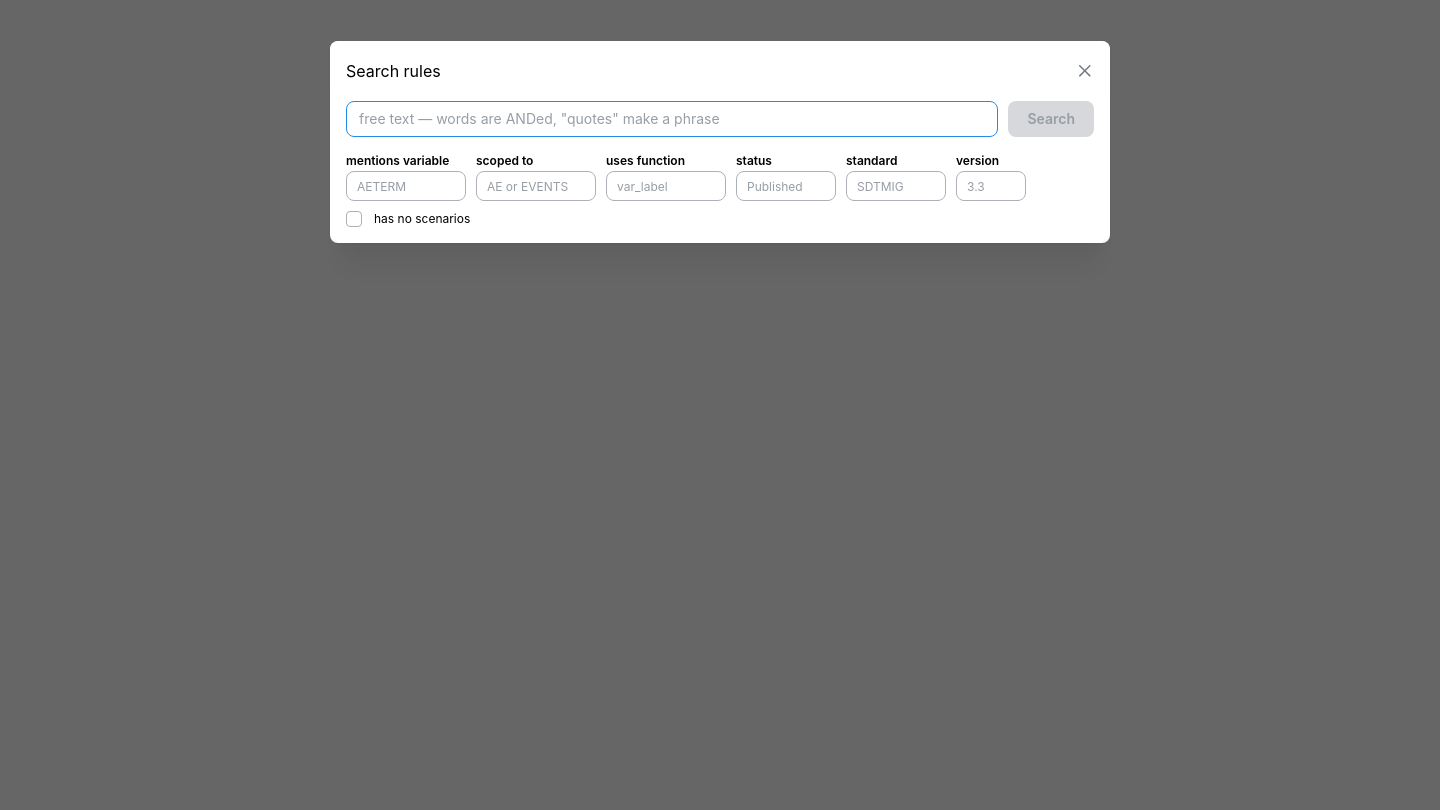
Test: SearchDialog › marks a truncated result
This screenshot has width=1440, height=810.
Step 1. Type "x" into the field named "Search text" → [672, 118], box [346, 100, 998, 136]
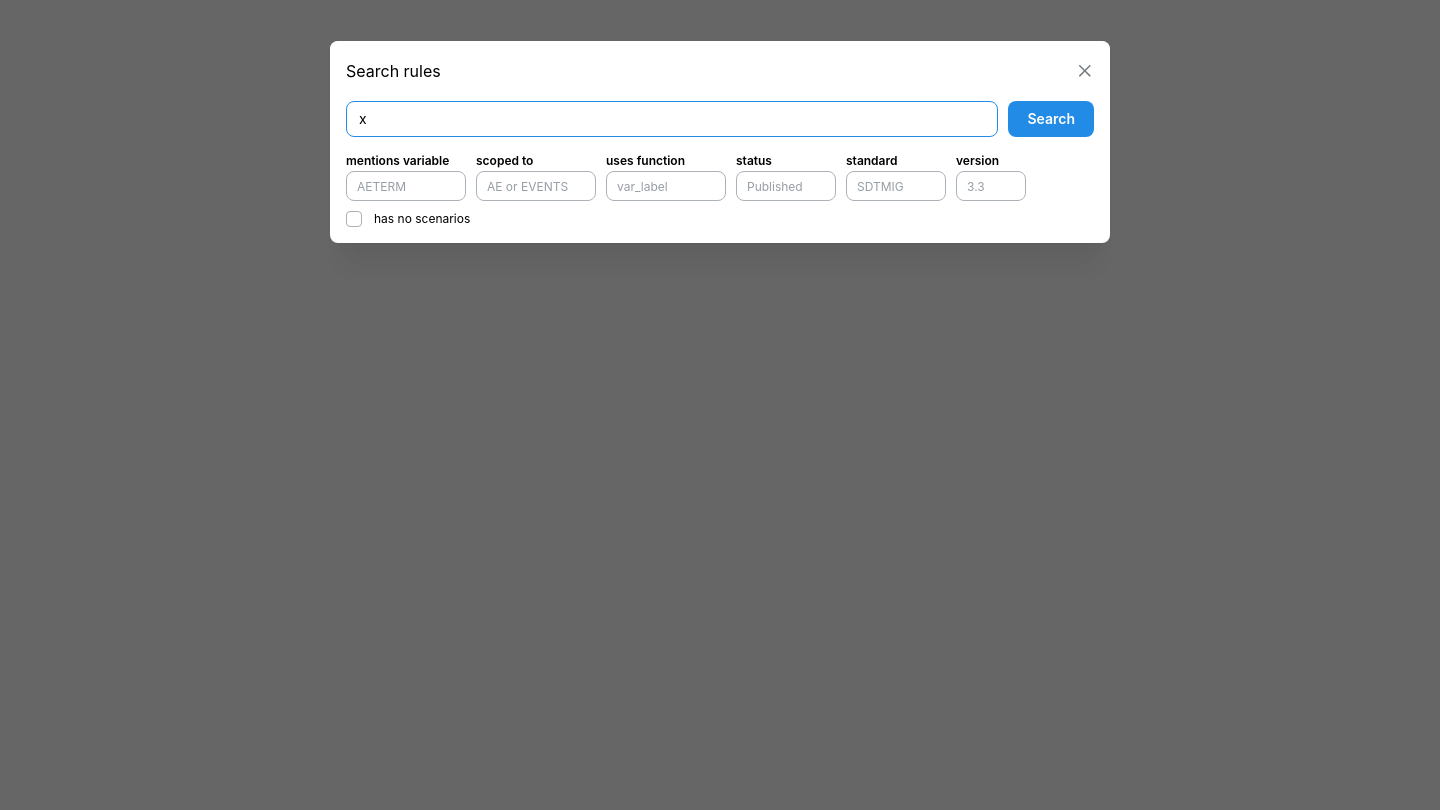
Step 2. Click the button "Search" → [1051, 118], box [1008, 100, 1094, 136]
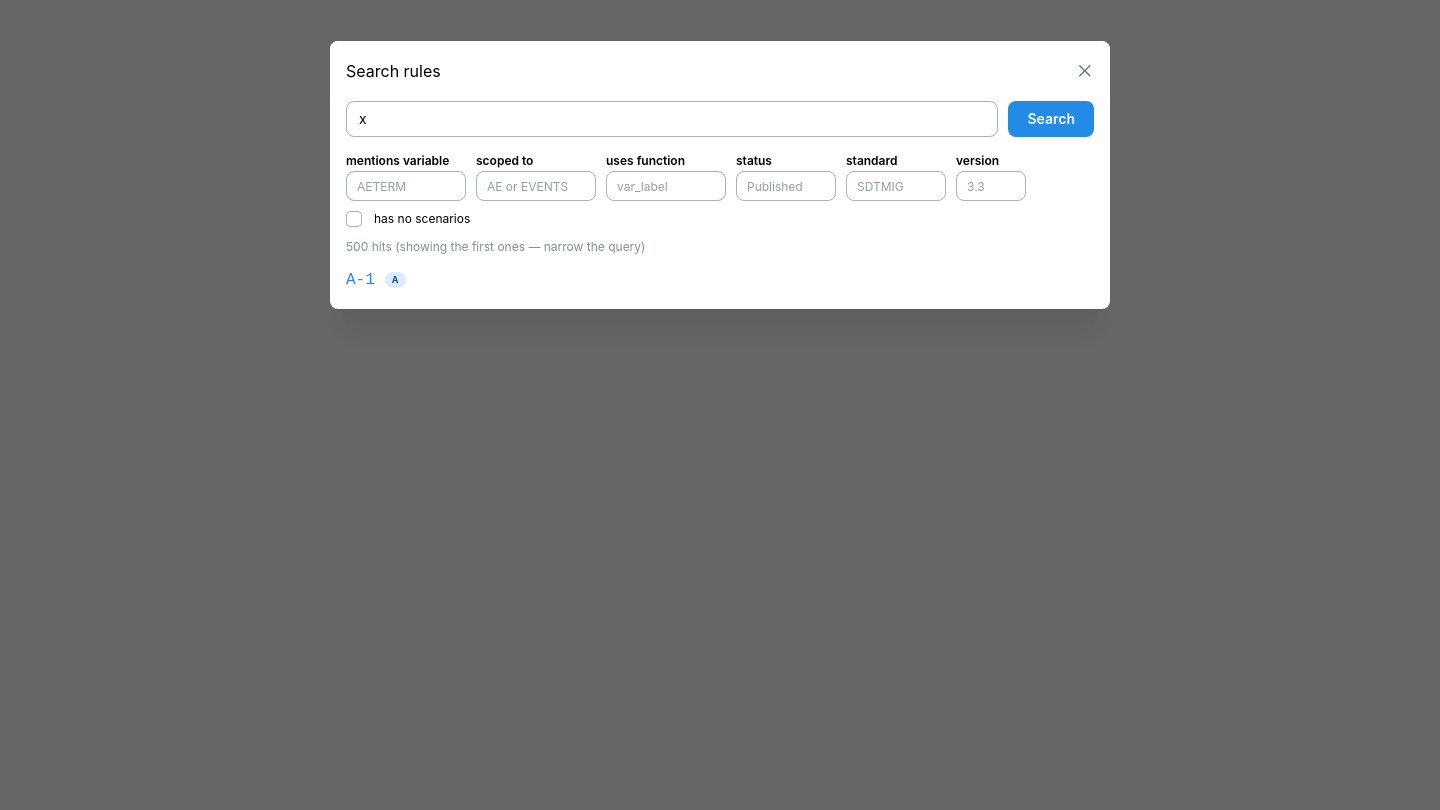
Check: the text "500 hits (showing the first ones — narrow the query)" is shown, box [346, 239, 646, 254]
